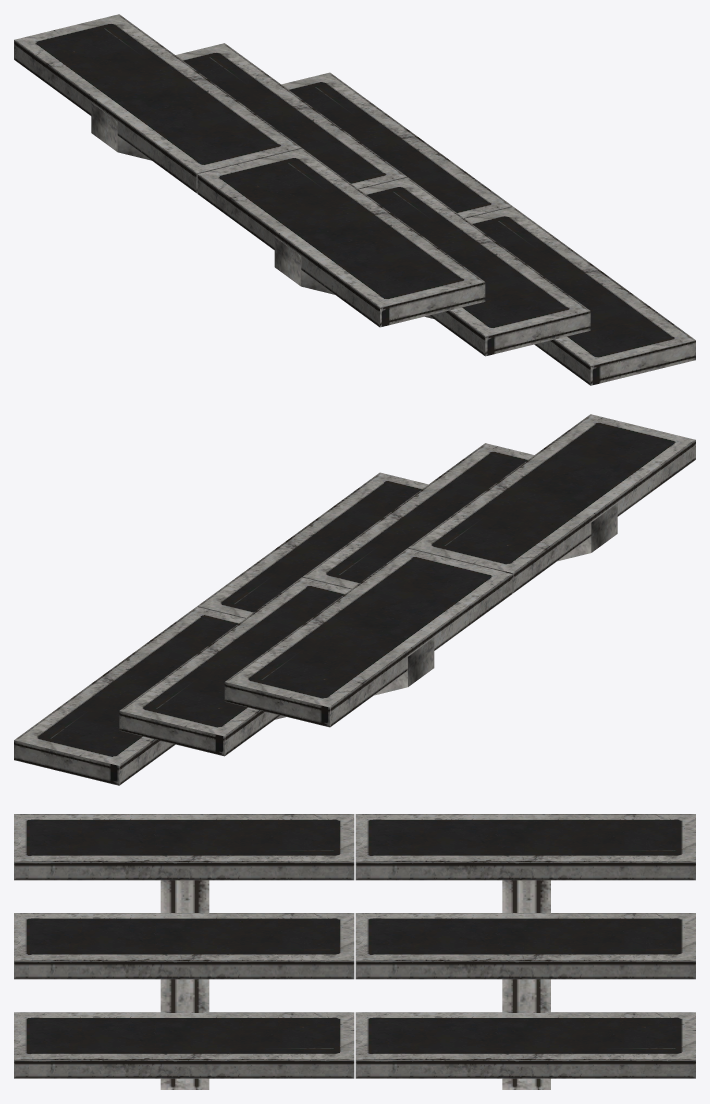
The model's file is SM_stair_200.fbx.
3 views of the same model, one above another, from view 1: azimuth 30°, elevation 25°; view 2: azimuth 150°, elevation 25°; view 3: azimuth 270°, elevation 25° (orthographic). The views are drawn at different scales.
Visible parts, largest first — view 1: stair_Corners_Mesh6; view 2: stair_Corners_Mesh6; view 3: stair_Corners_Mesh6.
Boxes of the visible parts, box(x1,y1,x2,y2) form: stair_Corners_Mesh6: box(14, 14, 695, 385); stair_Corners_Mesh6: box(14, 414, 695, 785); stair_Corners_Mesh6: box(14, 814, 695, 1089).
Bounding box in the file's own units: 1 × 0.4568 × 2.
